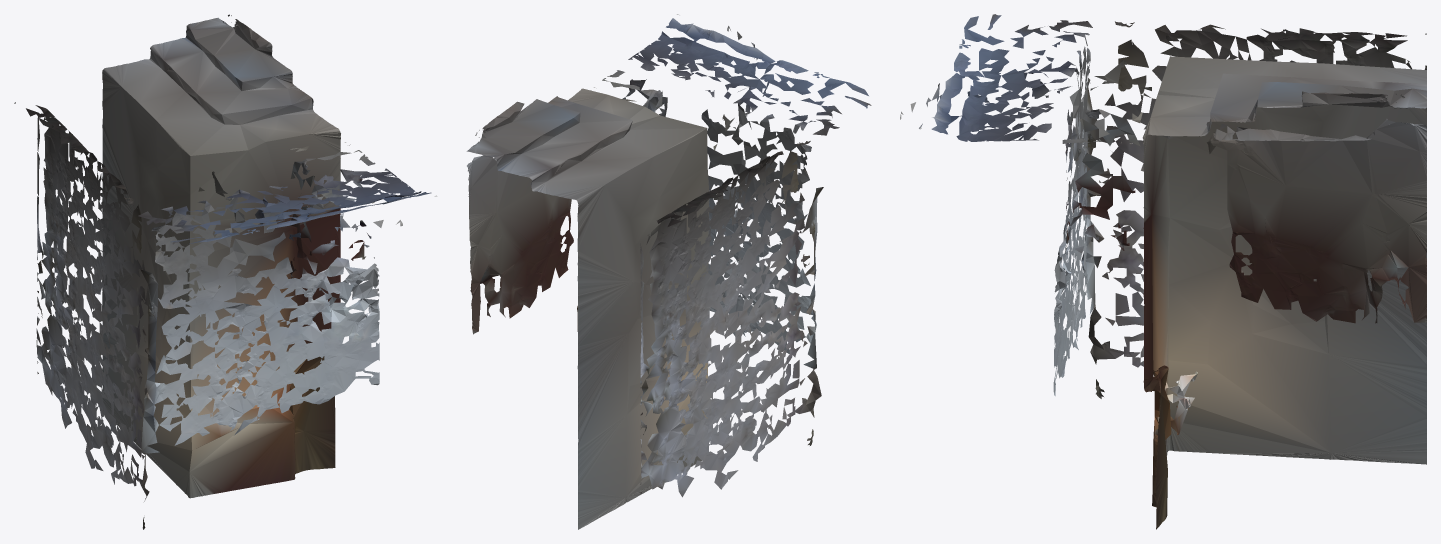
Rendered from coarse.glb.
3 renders of one model, left to right at view 1: azimuth 30°, elevation 25°; view 2: azimuth 150°, elevation 25°; view 3: azimuth 270°, elevation 25°, orthographic. The views are drawn at different scales.
Size of the model in its own units: 1.98 by 3.06 by 3.34.
